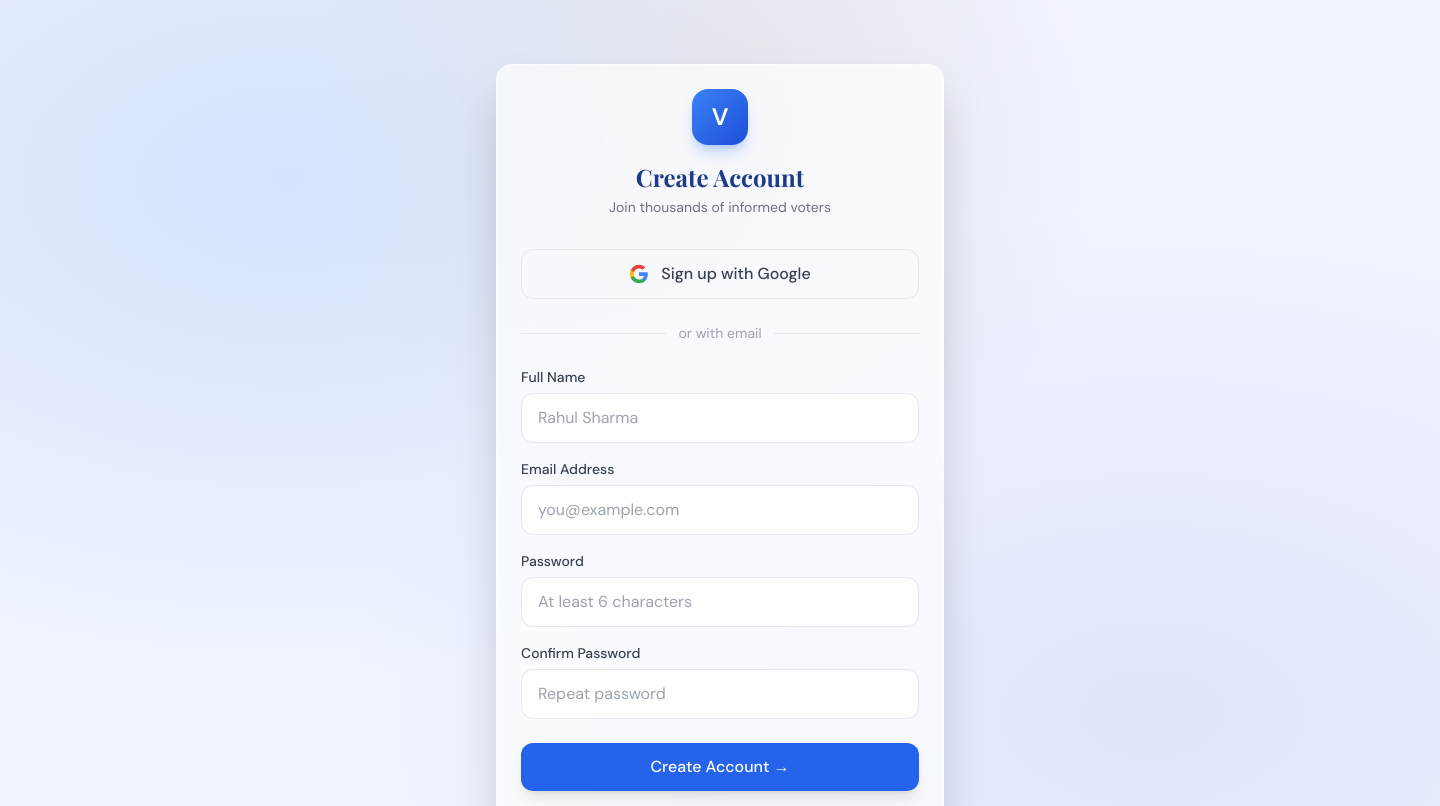
Scenario: Signup Page › shows validation error on empty form submit
The image size is (1440, 806).
Click the button "Sign up with Google": (720, 274) [521, 249, 919, 299]
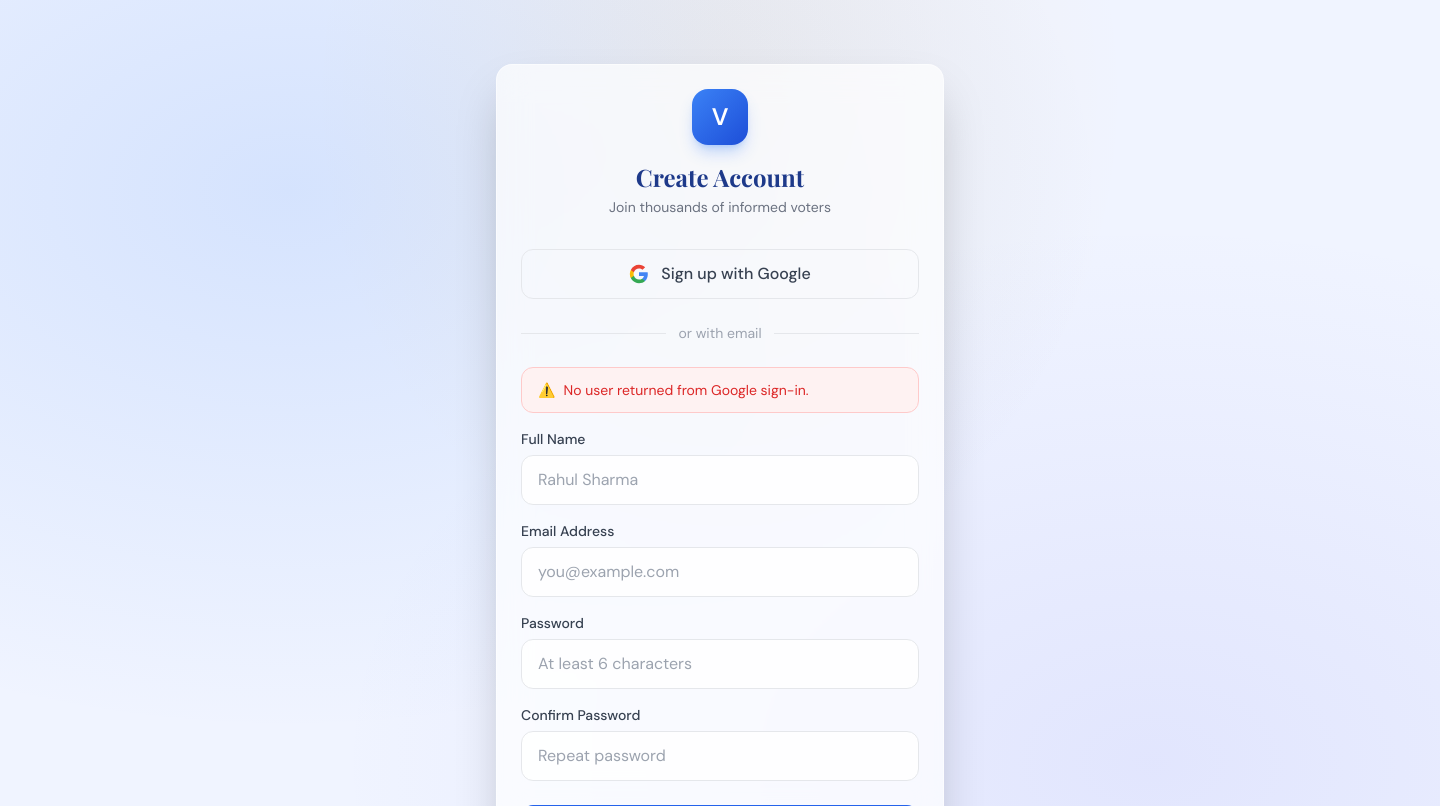
expect the message "⚠️ No user returned from Google sign-in." is shown: met, box [521, 367, 919, 413]
